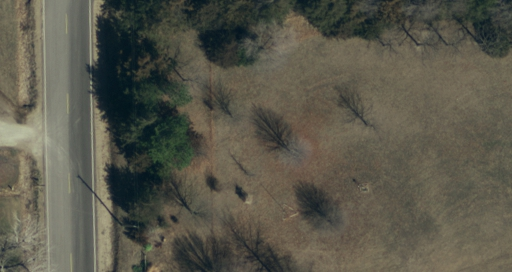DT: (116, 216, 142, 239)
